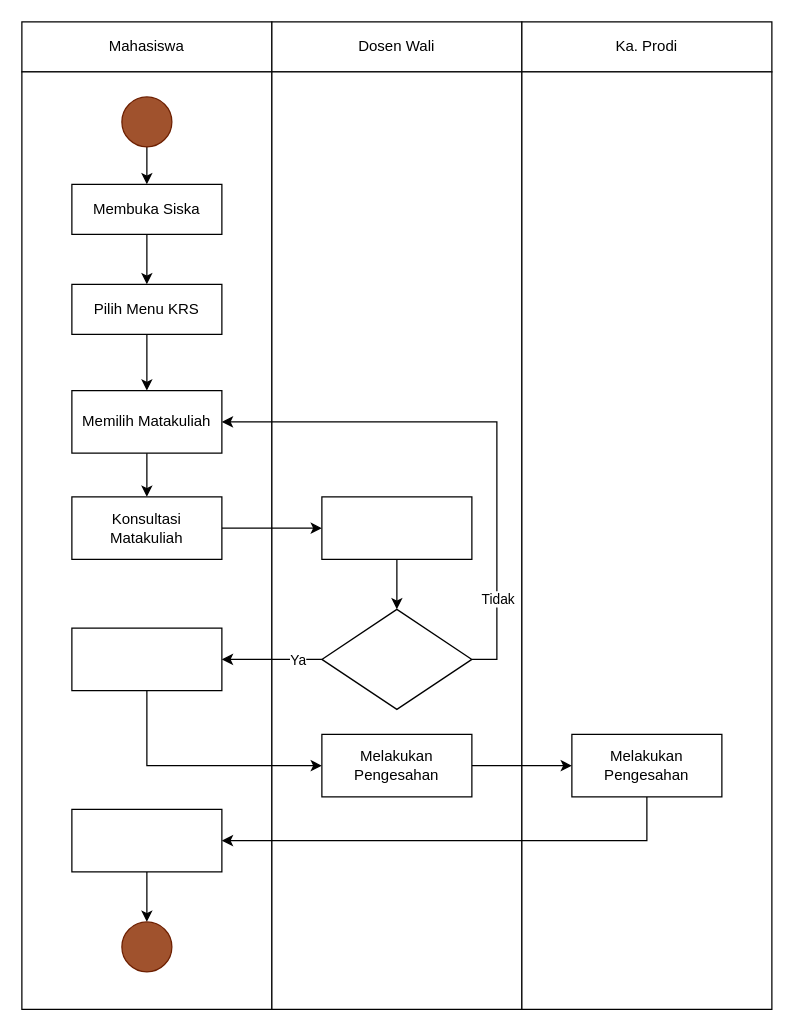
The diagram is 794 pixels wide and 1031 high, and some of its shapes have lost their labels. Here are the shapes that lost their labels. From the top down, the centre of each, then its label:
(x=396, y=527): Mengarahkan Mahasiswa
(x=146, y=659): Mencetak KRS
(x=396, y=658): Validasi KRS
(x=146, y=840): Menyerahkan KRS ke Akademik dan Dosen Wali
